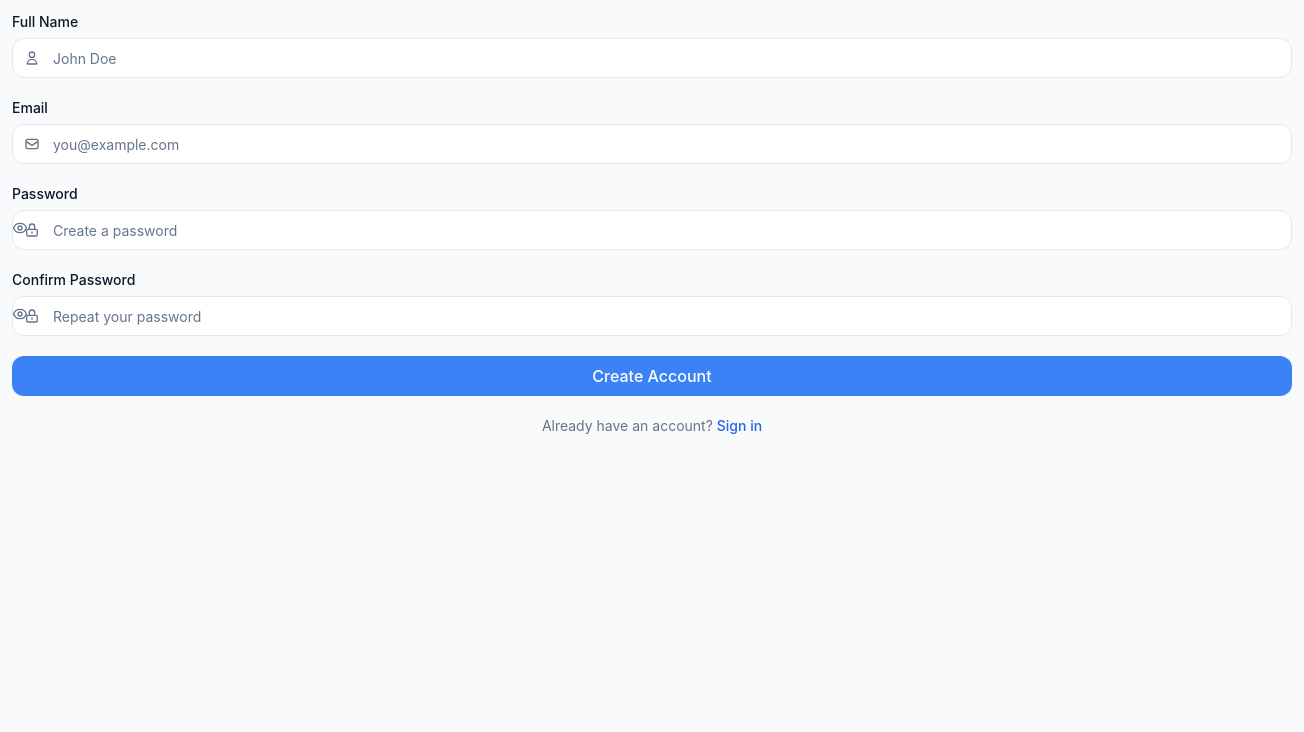
RegisterForm › validates password length
In the field labelled "Full Name": (652, 58) [12,38,1292,78], type "Test User"
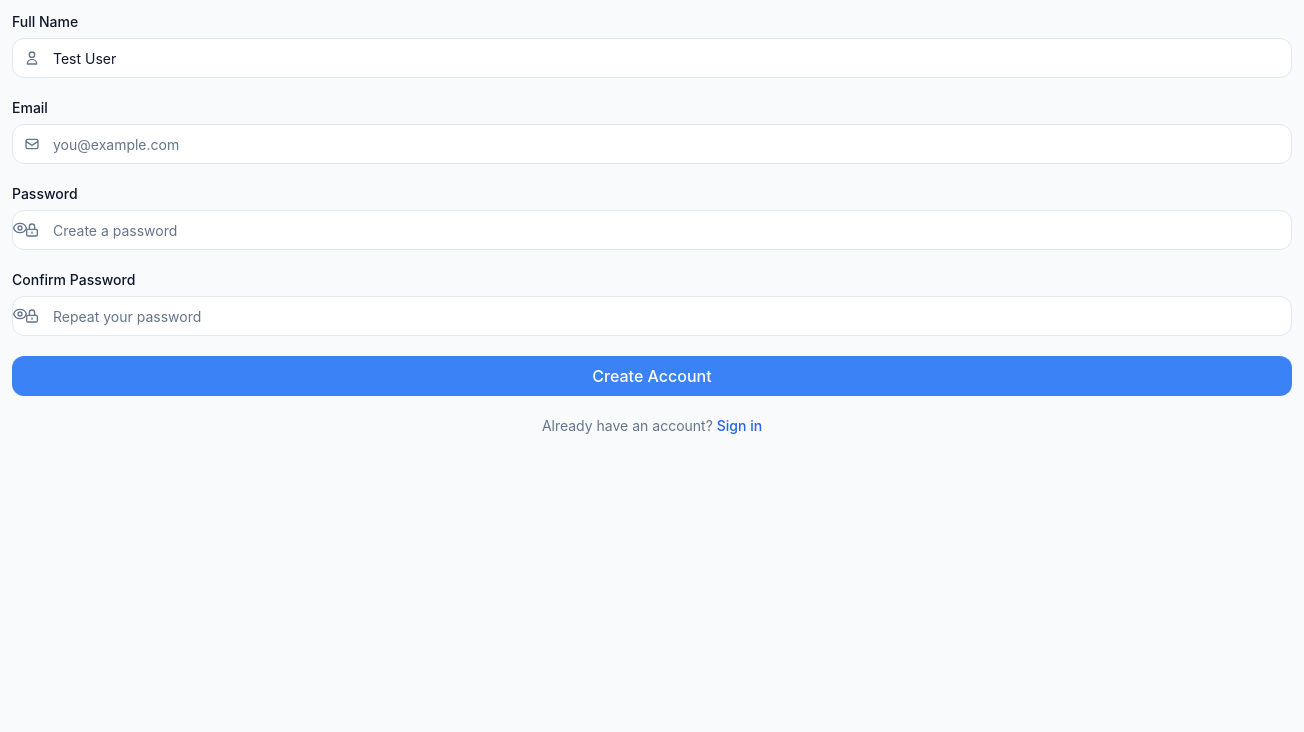
In the field labelled "Email": (652, 144) [12,124,1292,164], type "a@b.com"
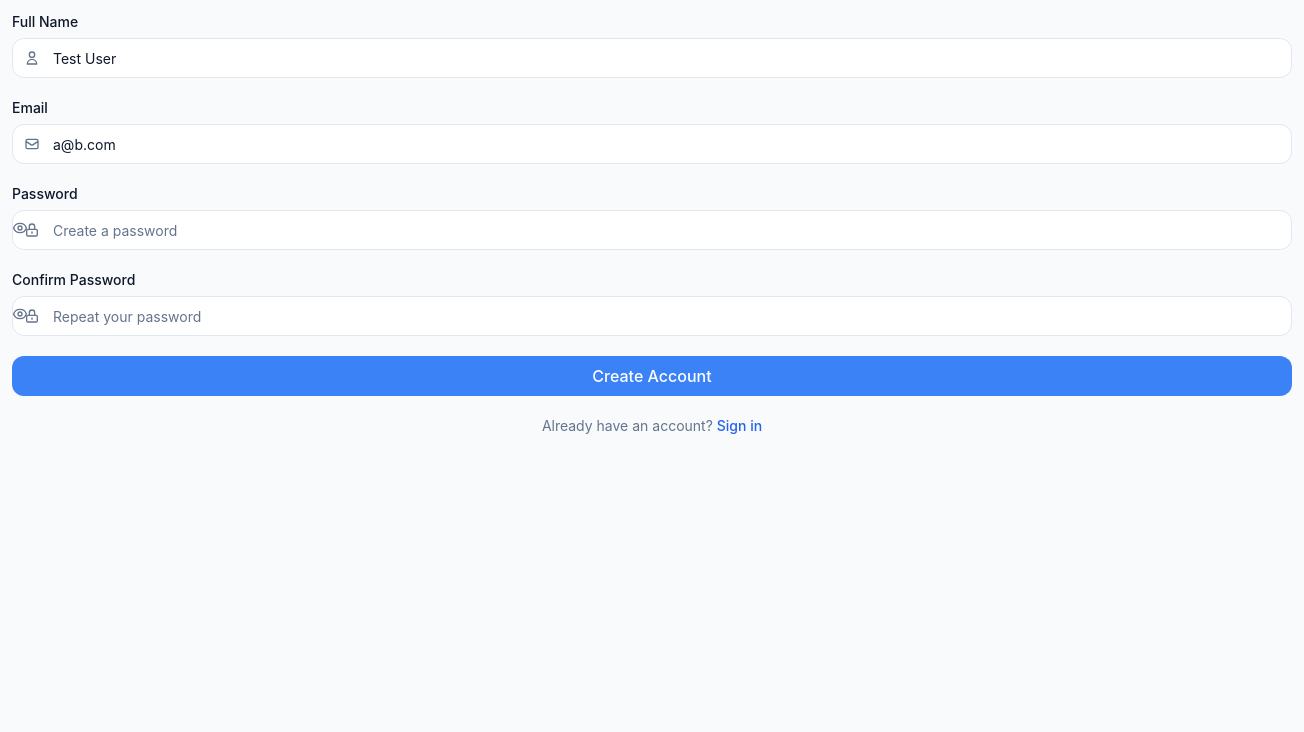
In the password field labelled "Password": (652, 230) [12,210,1292,250], type "short"
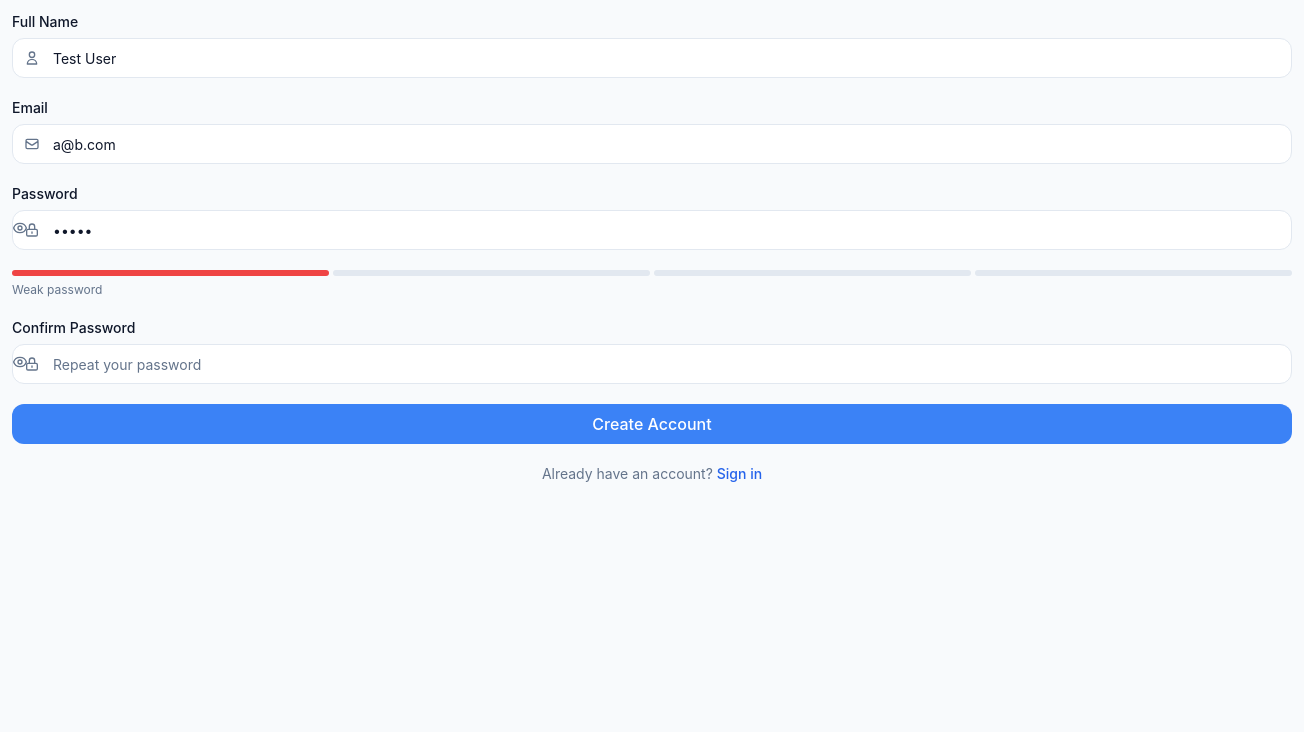
Click the button "Create Account": click(652, 424) [12,404,1292,444]
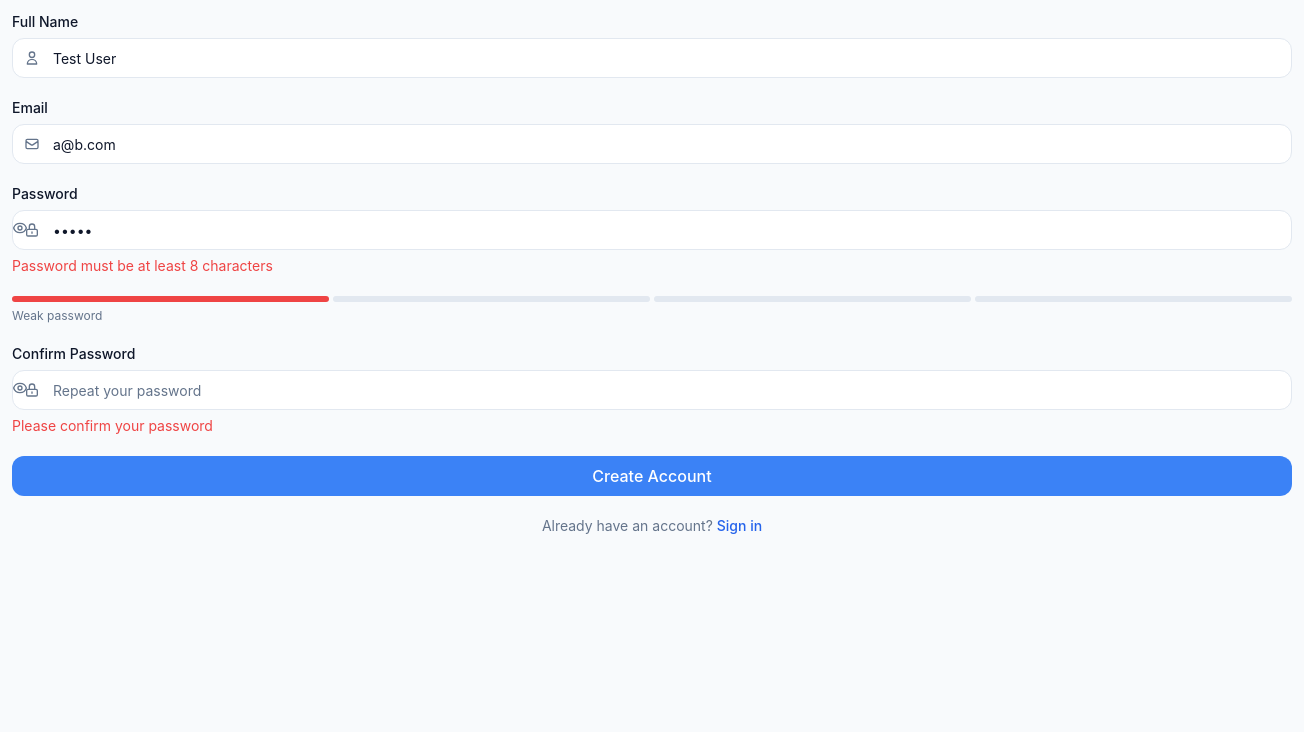
Result: the text "Password must be at least 8 characters" is shown at [12,257,273,274]
